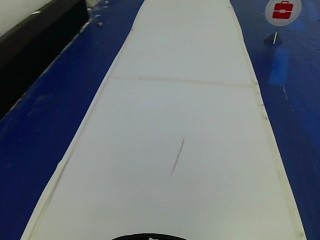company: (262, 0, 299, 29)
